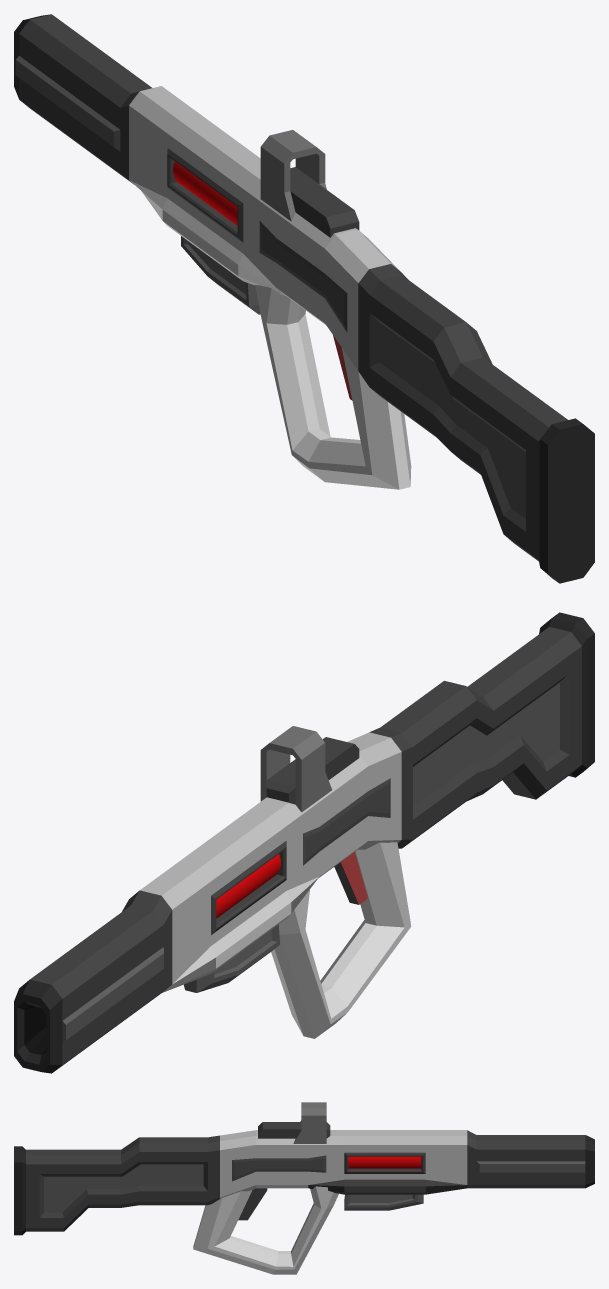
The model's file is laser_rifle_1.fbx.
3 views of the same model, one above another, from view 1: azimuth 30°, elevation 25°; view 2: azimuth 150°, elevation 25°; view 3: azimuth 270°, elevation 25° (orthographic). The views are drawn at different scales.
Visible parts, largest first — view 1: laser_rifle_body, laser_rifle_handle, laser_rifle_holosight, laser_rifle_magazine, laser_rifle_moving_part_1; view 2: laser_rifle_body, laser_rifle_handle, laser_rifle_holosight, laser_rifle_magazine, laser_rifle_moving_part_1, laser_rifle_trigger; view 3: laser_rifle_body, laser_rifle_handle, laser_rifle_holosight, laser_rifle_magazine, laser_rifle_moving_part_1, laser_rifle_trigger.
Part boxes in pixels (x1=…): laser_rifle_body: x1=14, y1=14, x2=594, y2=583; laser_rifle_handle: x1=255, y1=285, x2=411, y2=489; laser_rifle_holosight: x1=260, y1=130, x2=359, y2=237; laser_rifle_magazine: x1=181, y1=236, x2=260, y2=314; laser_rifle_moving_part_1: x1=173, y1=161, x2=237, y2=225; laser_rifle_body: x1=14, y1=612, x2=594, y2=1073; laser_rifle_handle: x1=271, y1=842, x2=411, y2=1038; laser_rifle_holosight: x1=260, y1=726, x2=359, y2=812; laser_rifle_magazine: x1=184, y1=924, x2=279, y2=992; laser_rifle_moving_part_1: x1=216, y1=854, x2=280, y2=918; laser_rifle_trigger: x1=334, y1=852, x2=367, y2=904; laser_rifle_body: x1=14, y1=1130, x2=594, y2=1235; laser_rifle_handle: x1=193, y1=1186, x2=338, y2=1274; laser_rifle_holosight: x1=258, y1=1102, x2=330, y2=1143; laser_rifle_magazine: x1=344, y1=1194, x2=423, y2=1210; laser_rifle_moving_part_1: x1=348, y1=1156, x2=421, y2=1168; laser_rifle_trigger: x1=238, y1=1188, x2=267, y2=1220.
Size of the model in its own units: 60.41 by 1060 by 338.
1 material, 1 textured.
